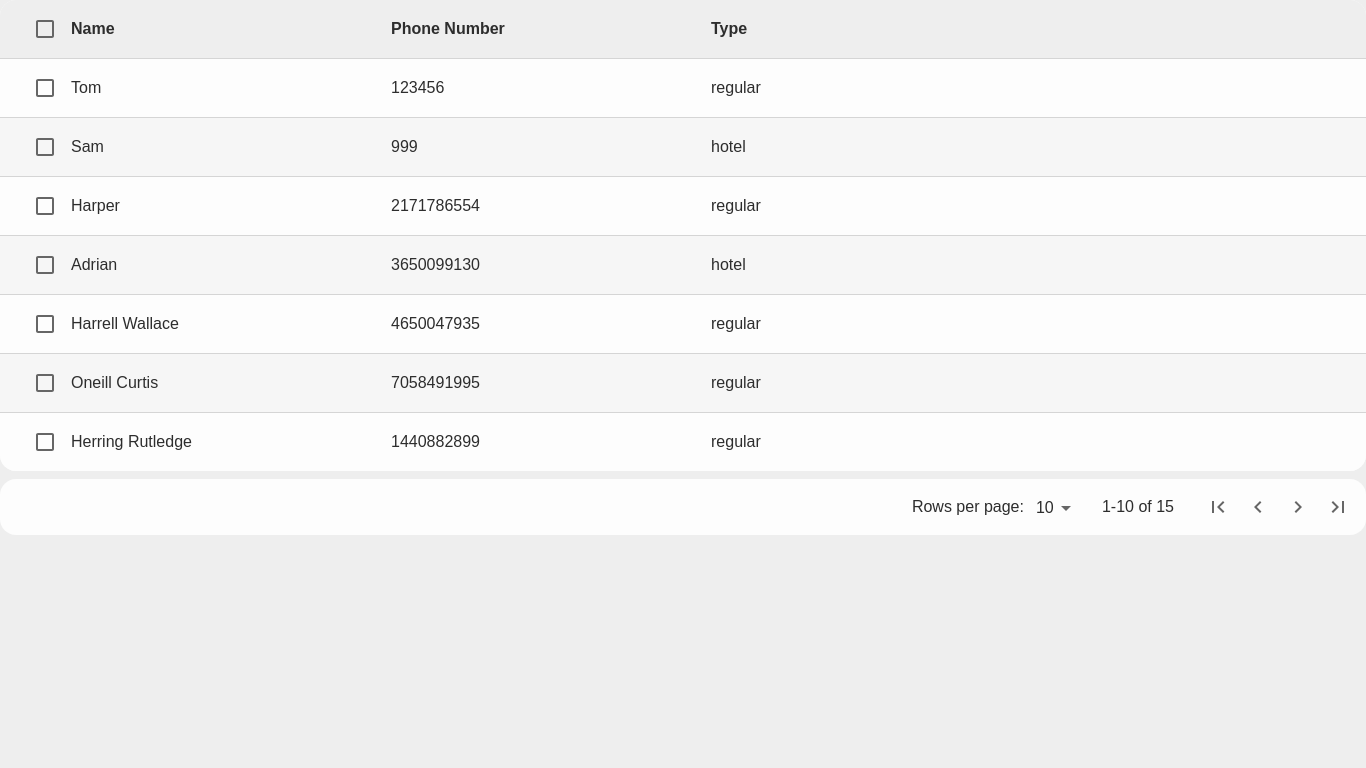
Test case: Generic Table component › Table with pagination and checkboxes › should have checkboxes unaffected by change in rows per page
The width and height of the screenshot is (1366, 768).
Click the checkbox named "Select row 0".
click(45, 88)  # box x1=33 y1=76 x2=57 y2=100
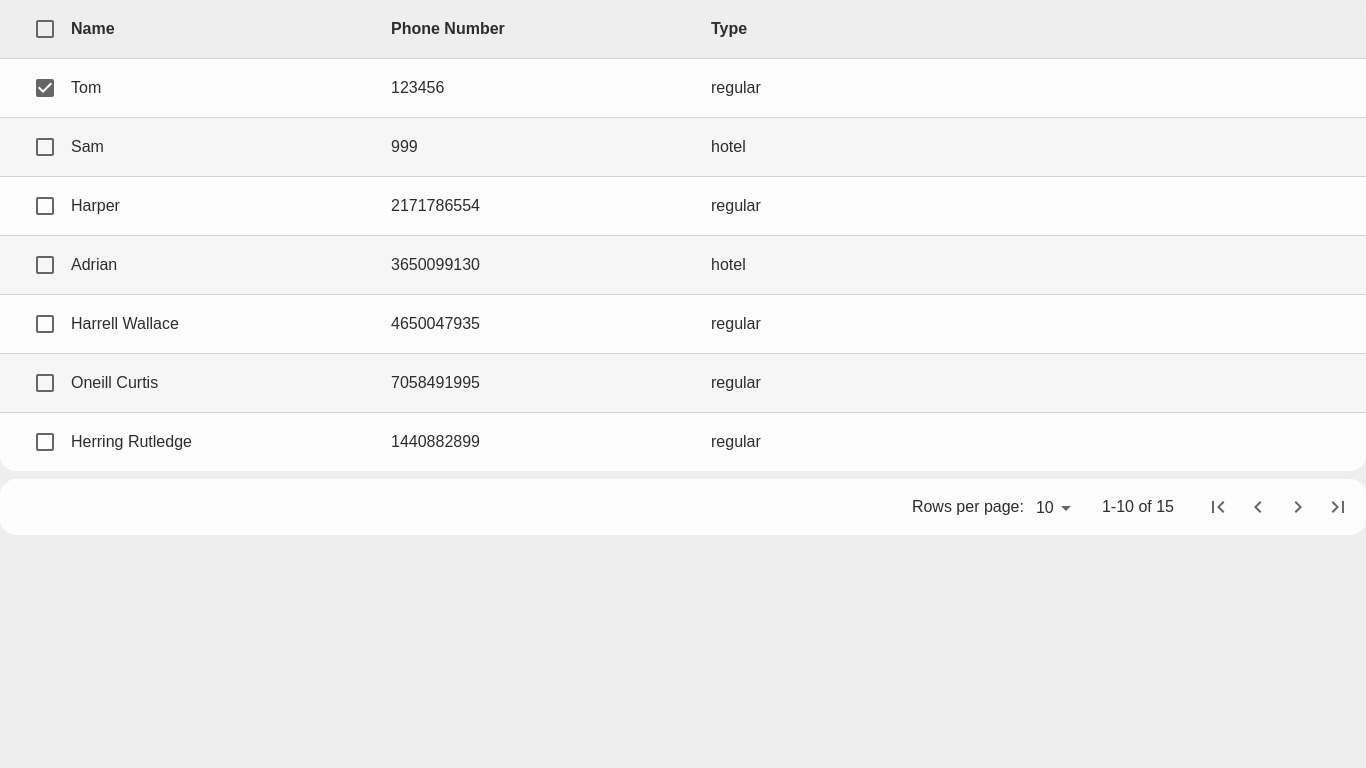
Click the checkbox named "Select row 6".
click(45, 442)  # box x1=33 y1=430 x2=57 y2=454
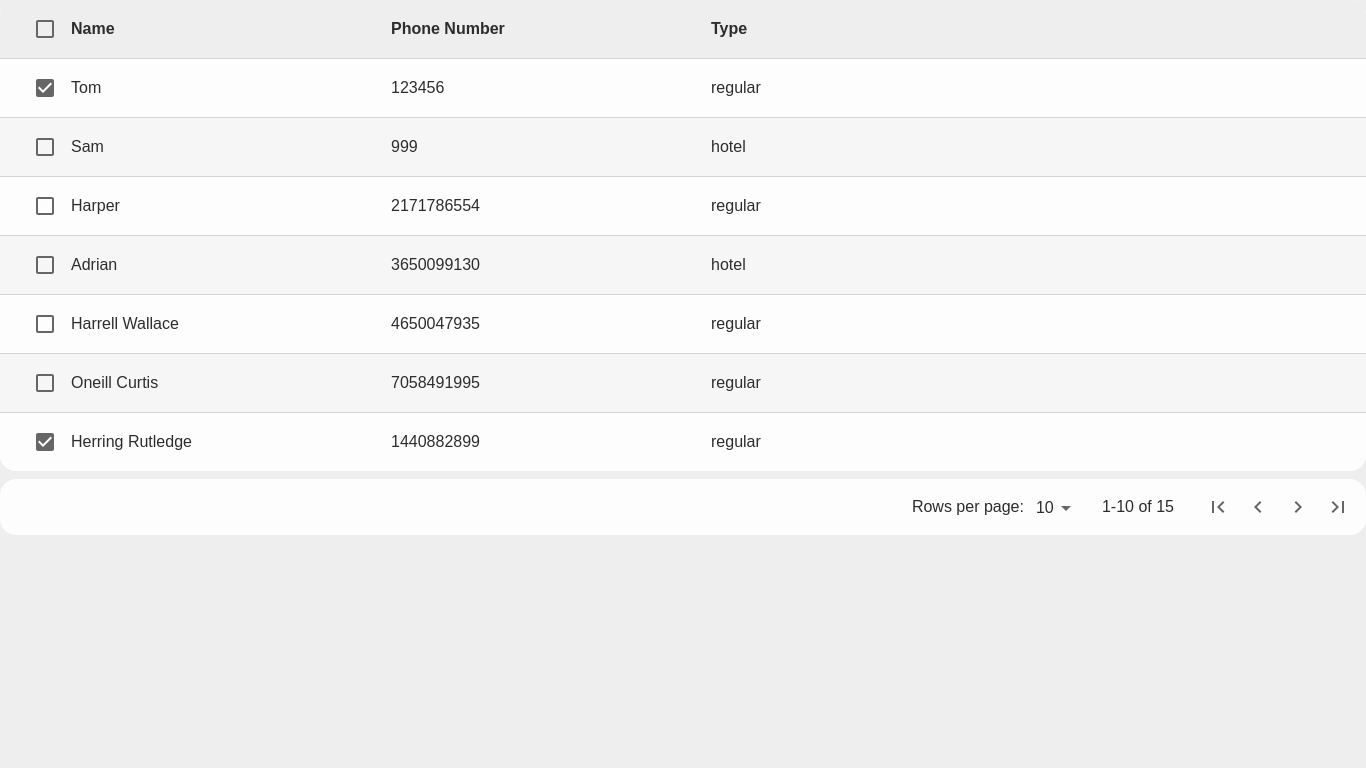
Result: the checkbox named "Select row 0" is checked at x1=33 y1=76 x2=57 y2=100
Result: the checkbox named "Select row 6" is checked at x1=33 y1=430 x2=57 y2=454
Select "5" in the dropdown named "Rows per page:" at (1053, 508), box x1=1028 y1=496 x2=1078 y2=520
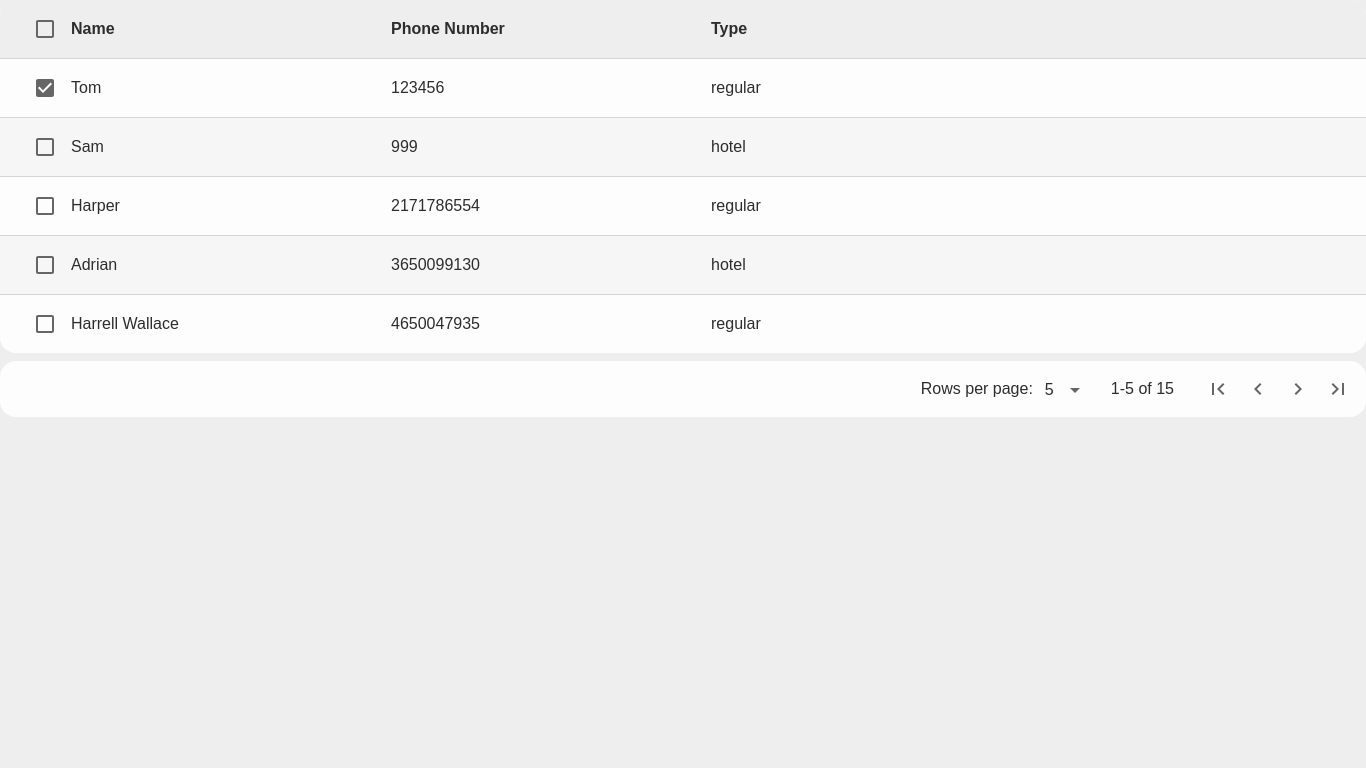
Result: the checkbox named "Select row 0" is checked at x1=33 y1=76 x2=57 y2=100
Select "7" in the dropdown named "Rows per page:" at (1062, 390), box x1=1037 y1=378 x2=1087 y2=402
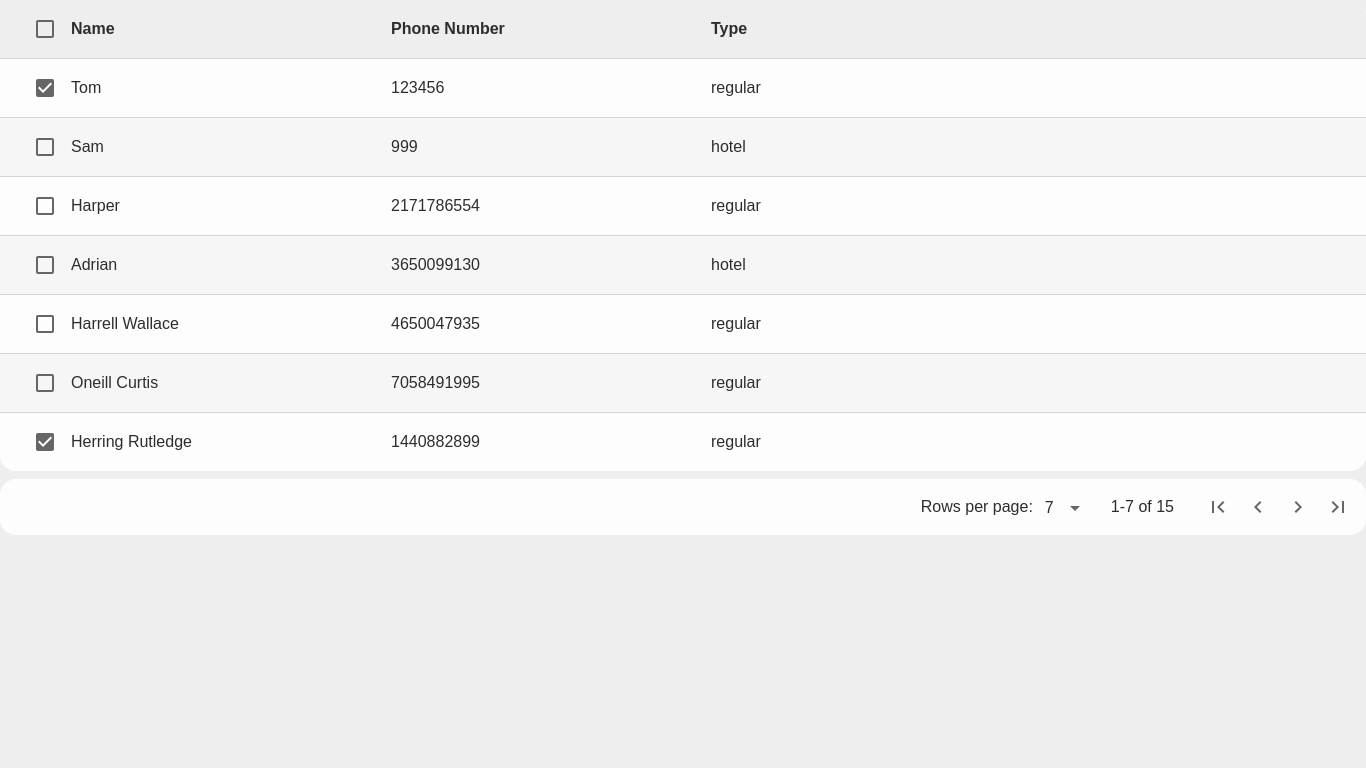
Result: the checkbox named "Select row 0" is checked at x1=33 y1=76 x2=57 y2=100
Result: the checkbox named "Select row 6" is checked at x1=33 y1=430 x2=57 y2=454
